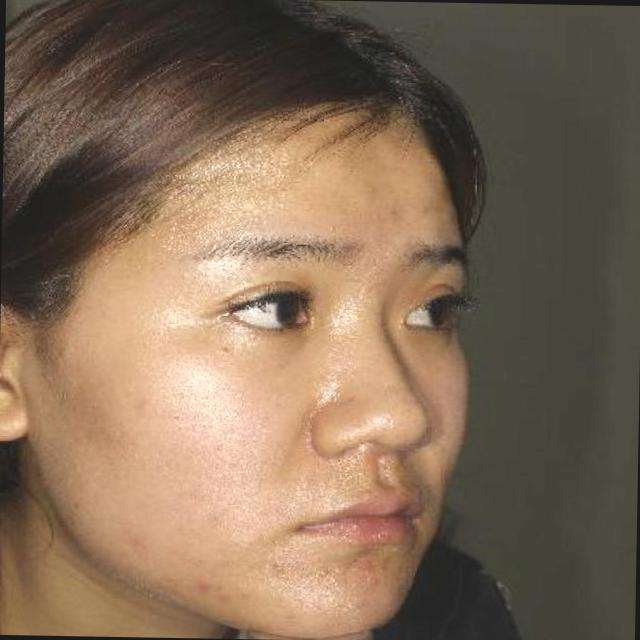blackhead: (177, 268, 193, 282), (215, 344, 232, 356)
nodules: (266, 556, 292, 574), (190, 577, 217, 591), (360, 487, 373, 501)
